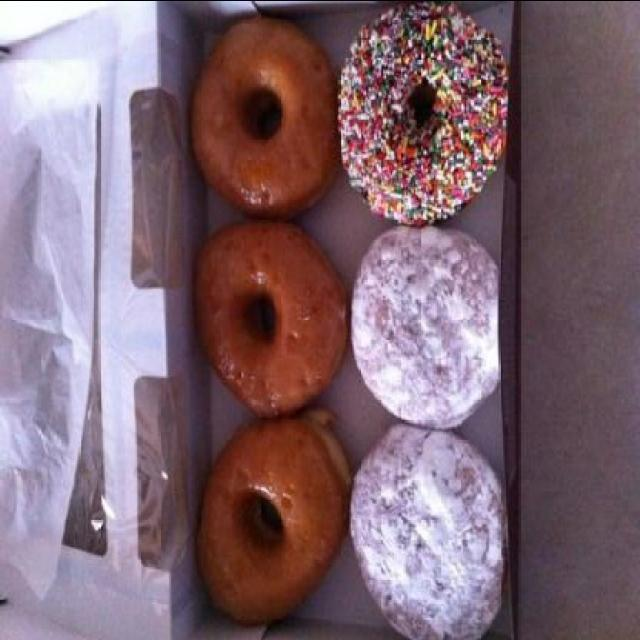Donuts: (183, 4, 512, 638)
